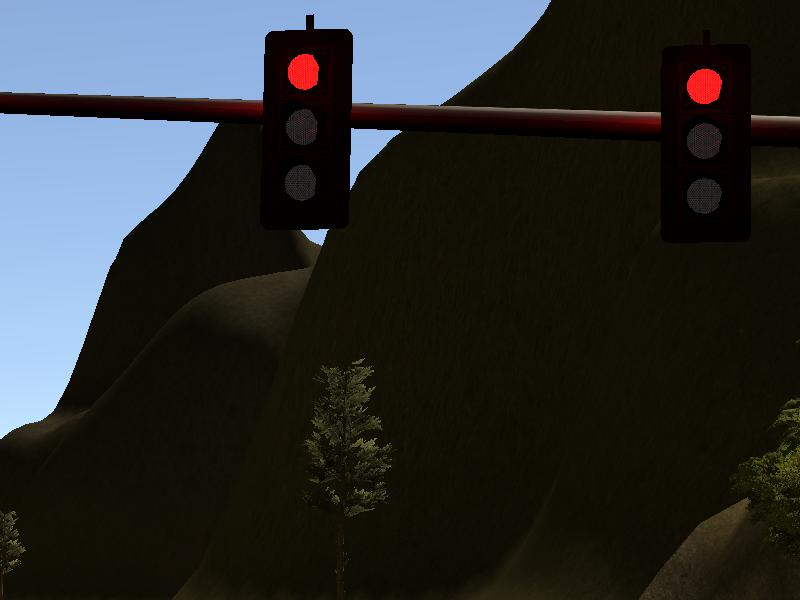Red: (662, 44, 749, 241), (266, 31, 347, 227)
